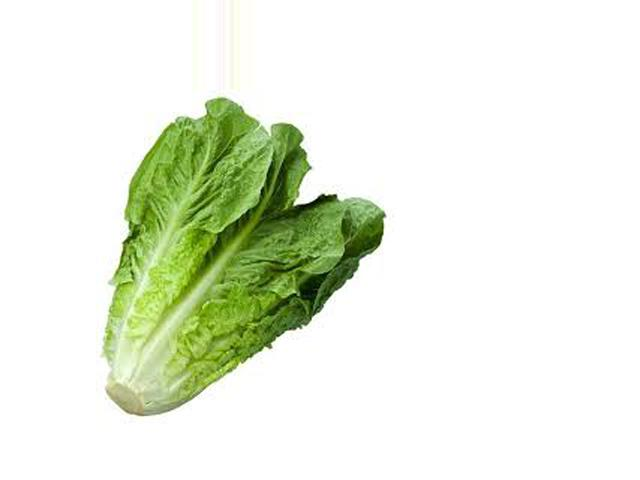lettuce: (91, 91, 394, 413)
